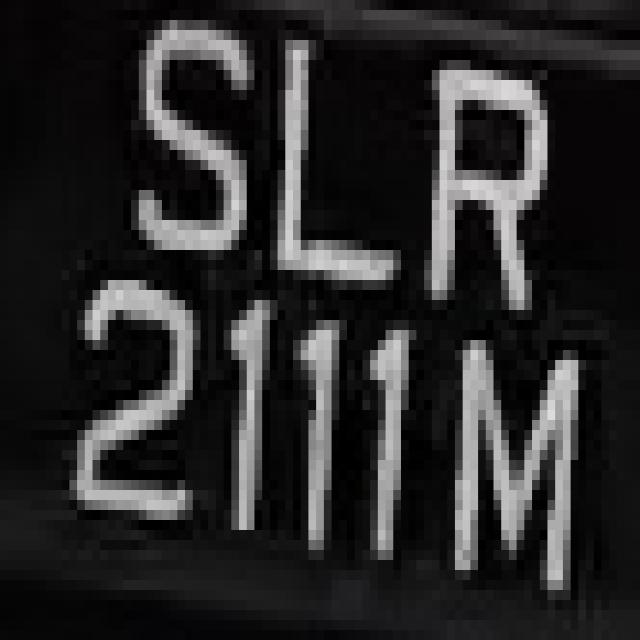1: (355, 310, 432, 580), (208, 280, 278, 560), (293, 280, 339, 560)
2: (54, 250, 200, 560)
L: (254, 20, 408, 310)
M: (439, 290, 602, 620)
R: (424, 40, 571, 320)
S: (108, 0, 270, 270)
